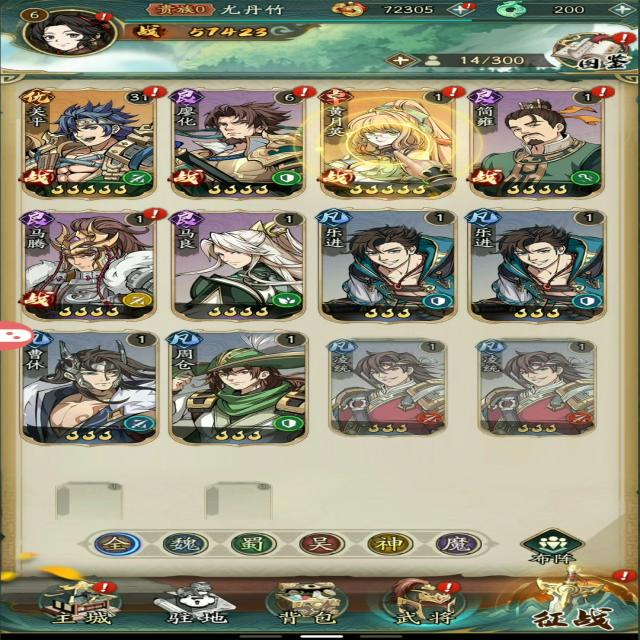hint-reddot: (584, 85, 620, 101), (607, 567, 640, 584), (430, 581, 466, 596), (140, 206, 173, 222), (290, 85, 320, 101), (438, 86, 469, 101), (612, 31, 640, 46), (141, 86, 168, 100), (88, 10, 117, 22), (89, 582, 118, 594), (458, 1, 484, 13)
navigation-bag: (256, 577, 366, 627)
navigation-fight: (498, 568, 638, 632)
navigation-hero: (381, 573, 476, 627)
navigation-main: (31, 575, 133, 626)
navigation-myHeroes: (168, 331, 314, 450), (316, 87, 462, 201), (168, 86, 309, 202), (20, 86, 160, 202), (469, 88, 611, 202), (167, 212, 307, 327), (19, 336, 161, 448), (19, 213, 157, 326), (468, 215, 609, 325), (325, 216, 462, 325), (469, 333, 602, 438), (325, 334, 454, 438)
navigation-role: (15, 2, 126, 58)
navigation-station-off: (152, 579, 241, 626)
operation-HeroAddBag: (388, 48, 450, 68)
operation-Vip: (138, 0, 231, 18)
operation-camp: (427, 533, 485, 561), (225, 533, 281, 560), (364, 533, 419, 560), (294, 533, 349, 560), (162, 534, 213, 560), (94, 534, 145, 560)
operation-deployment: (516, 526, 589, 568)
operation-gallery: (545, 27, 636, 72)
